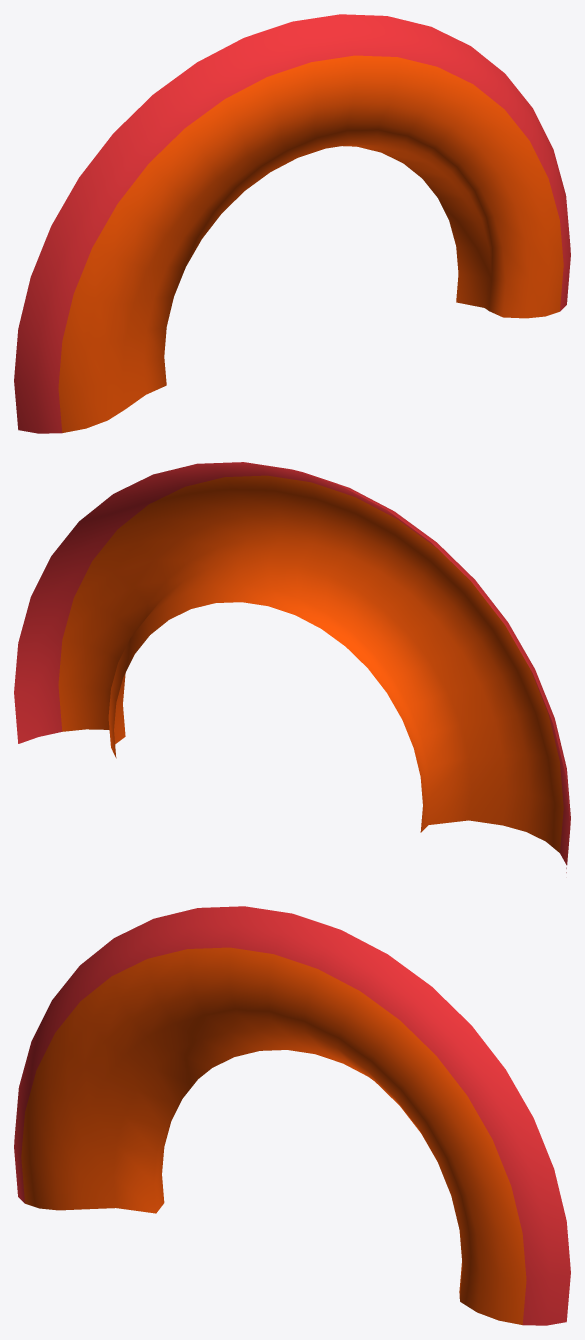
The model's file is arcoLaranja.fbx.
3 renders of one model, top to bottom at view 1: azimuth 30°, elevation 25°; view 2: azimuth 150°, elevation 25°; view 3: azimuth 330°, elevation 25°, orthographic.
Visible parts, largest first — view 1: cinza; view 2: cinza; view 3: cinza.
Part boxes in pixels (x1=…): cinza: x1=14, y1=14, x2=570, y2=433; cinza: x1=14, y1=462, x2=570, y2=872; cinza: x1=14, y1=906, x2=570, y2=1325.
Size of the model in its own units: 6.08 by 3.57 by 0.5824.
